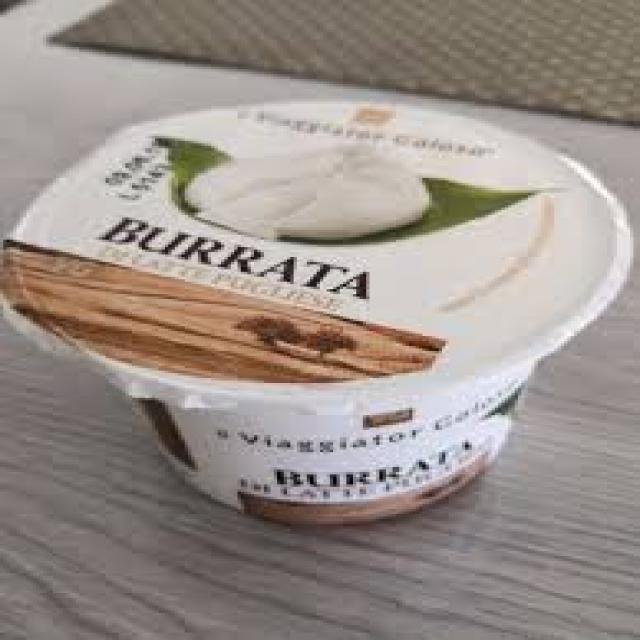cheese: (0, 99, 633, 529)
